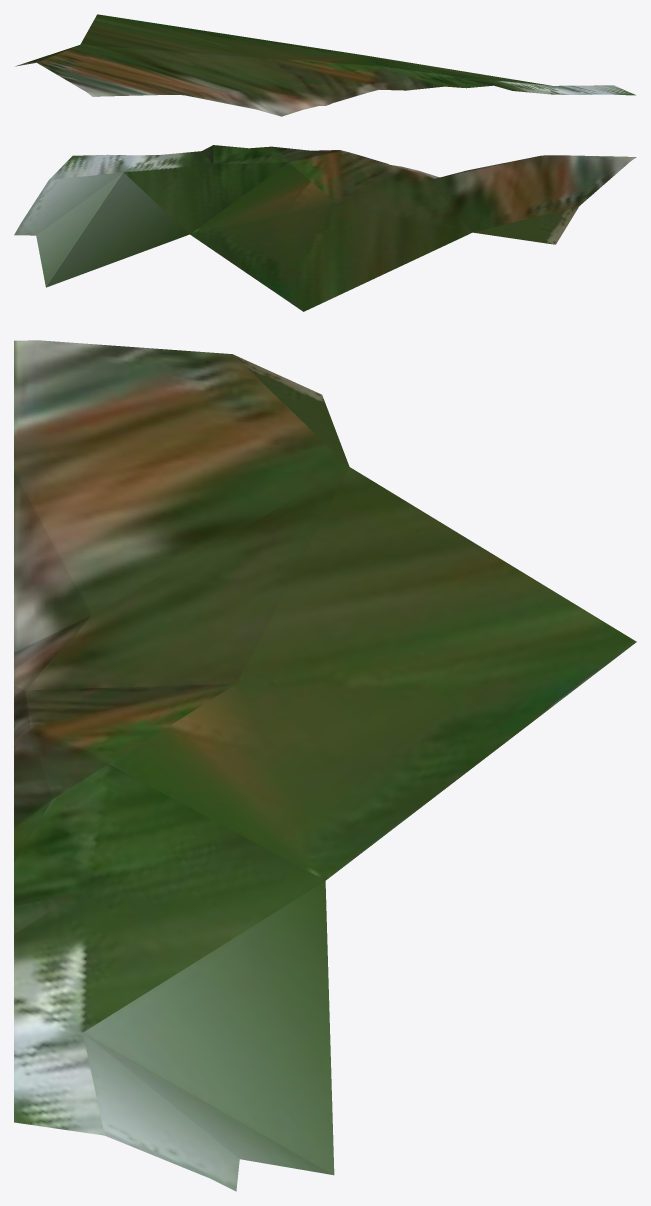
The picture shows the model from 3 angles, top to bottom: view 1: azimuth 30°, elevation 25°; view 2: azimuth 150°, elevation 25°; view 3: azimuth 270°, elevation 25°; orthographic projection. The views are drawn at different scales.
Bounding box in the file's own units: 3.35 × 1.09 × 1.69.
1 material, 1 textured.
